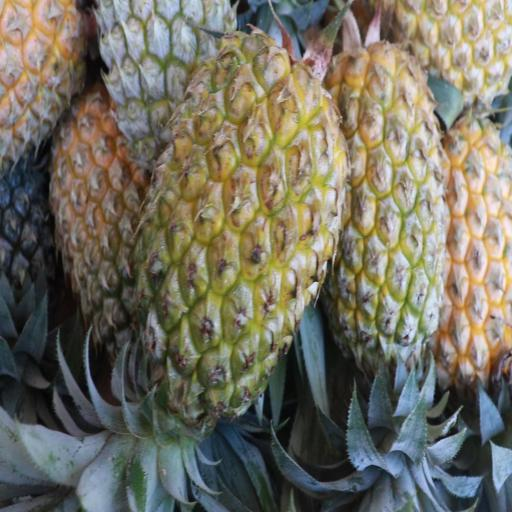------------------------------: (52, 102, 146, 342)
Pineapple - v8 v1: (144, 44, 344, 404), (334, 55, 445, 361), (439, 118, 512, 372)
